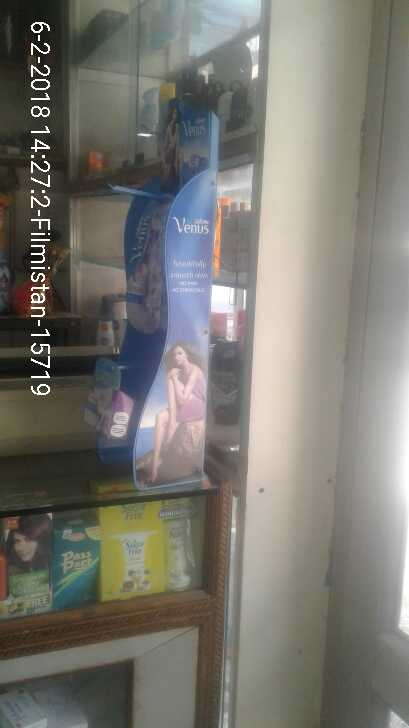reject: (97, 196, 236, 421)
